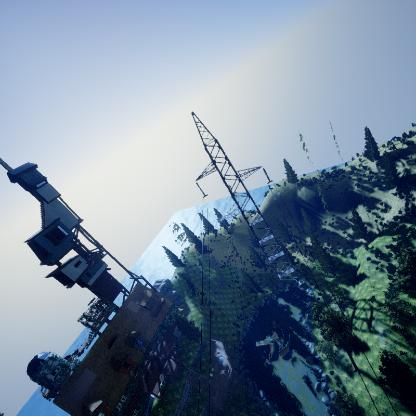tower: (182, 113, 315, 302)
